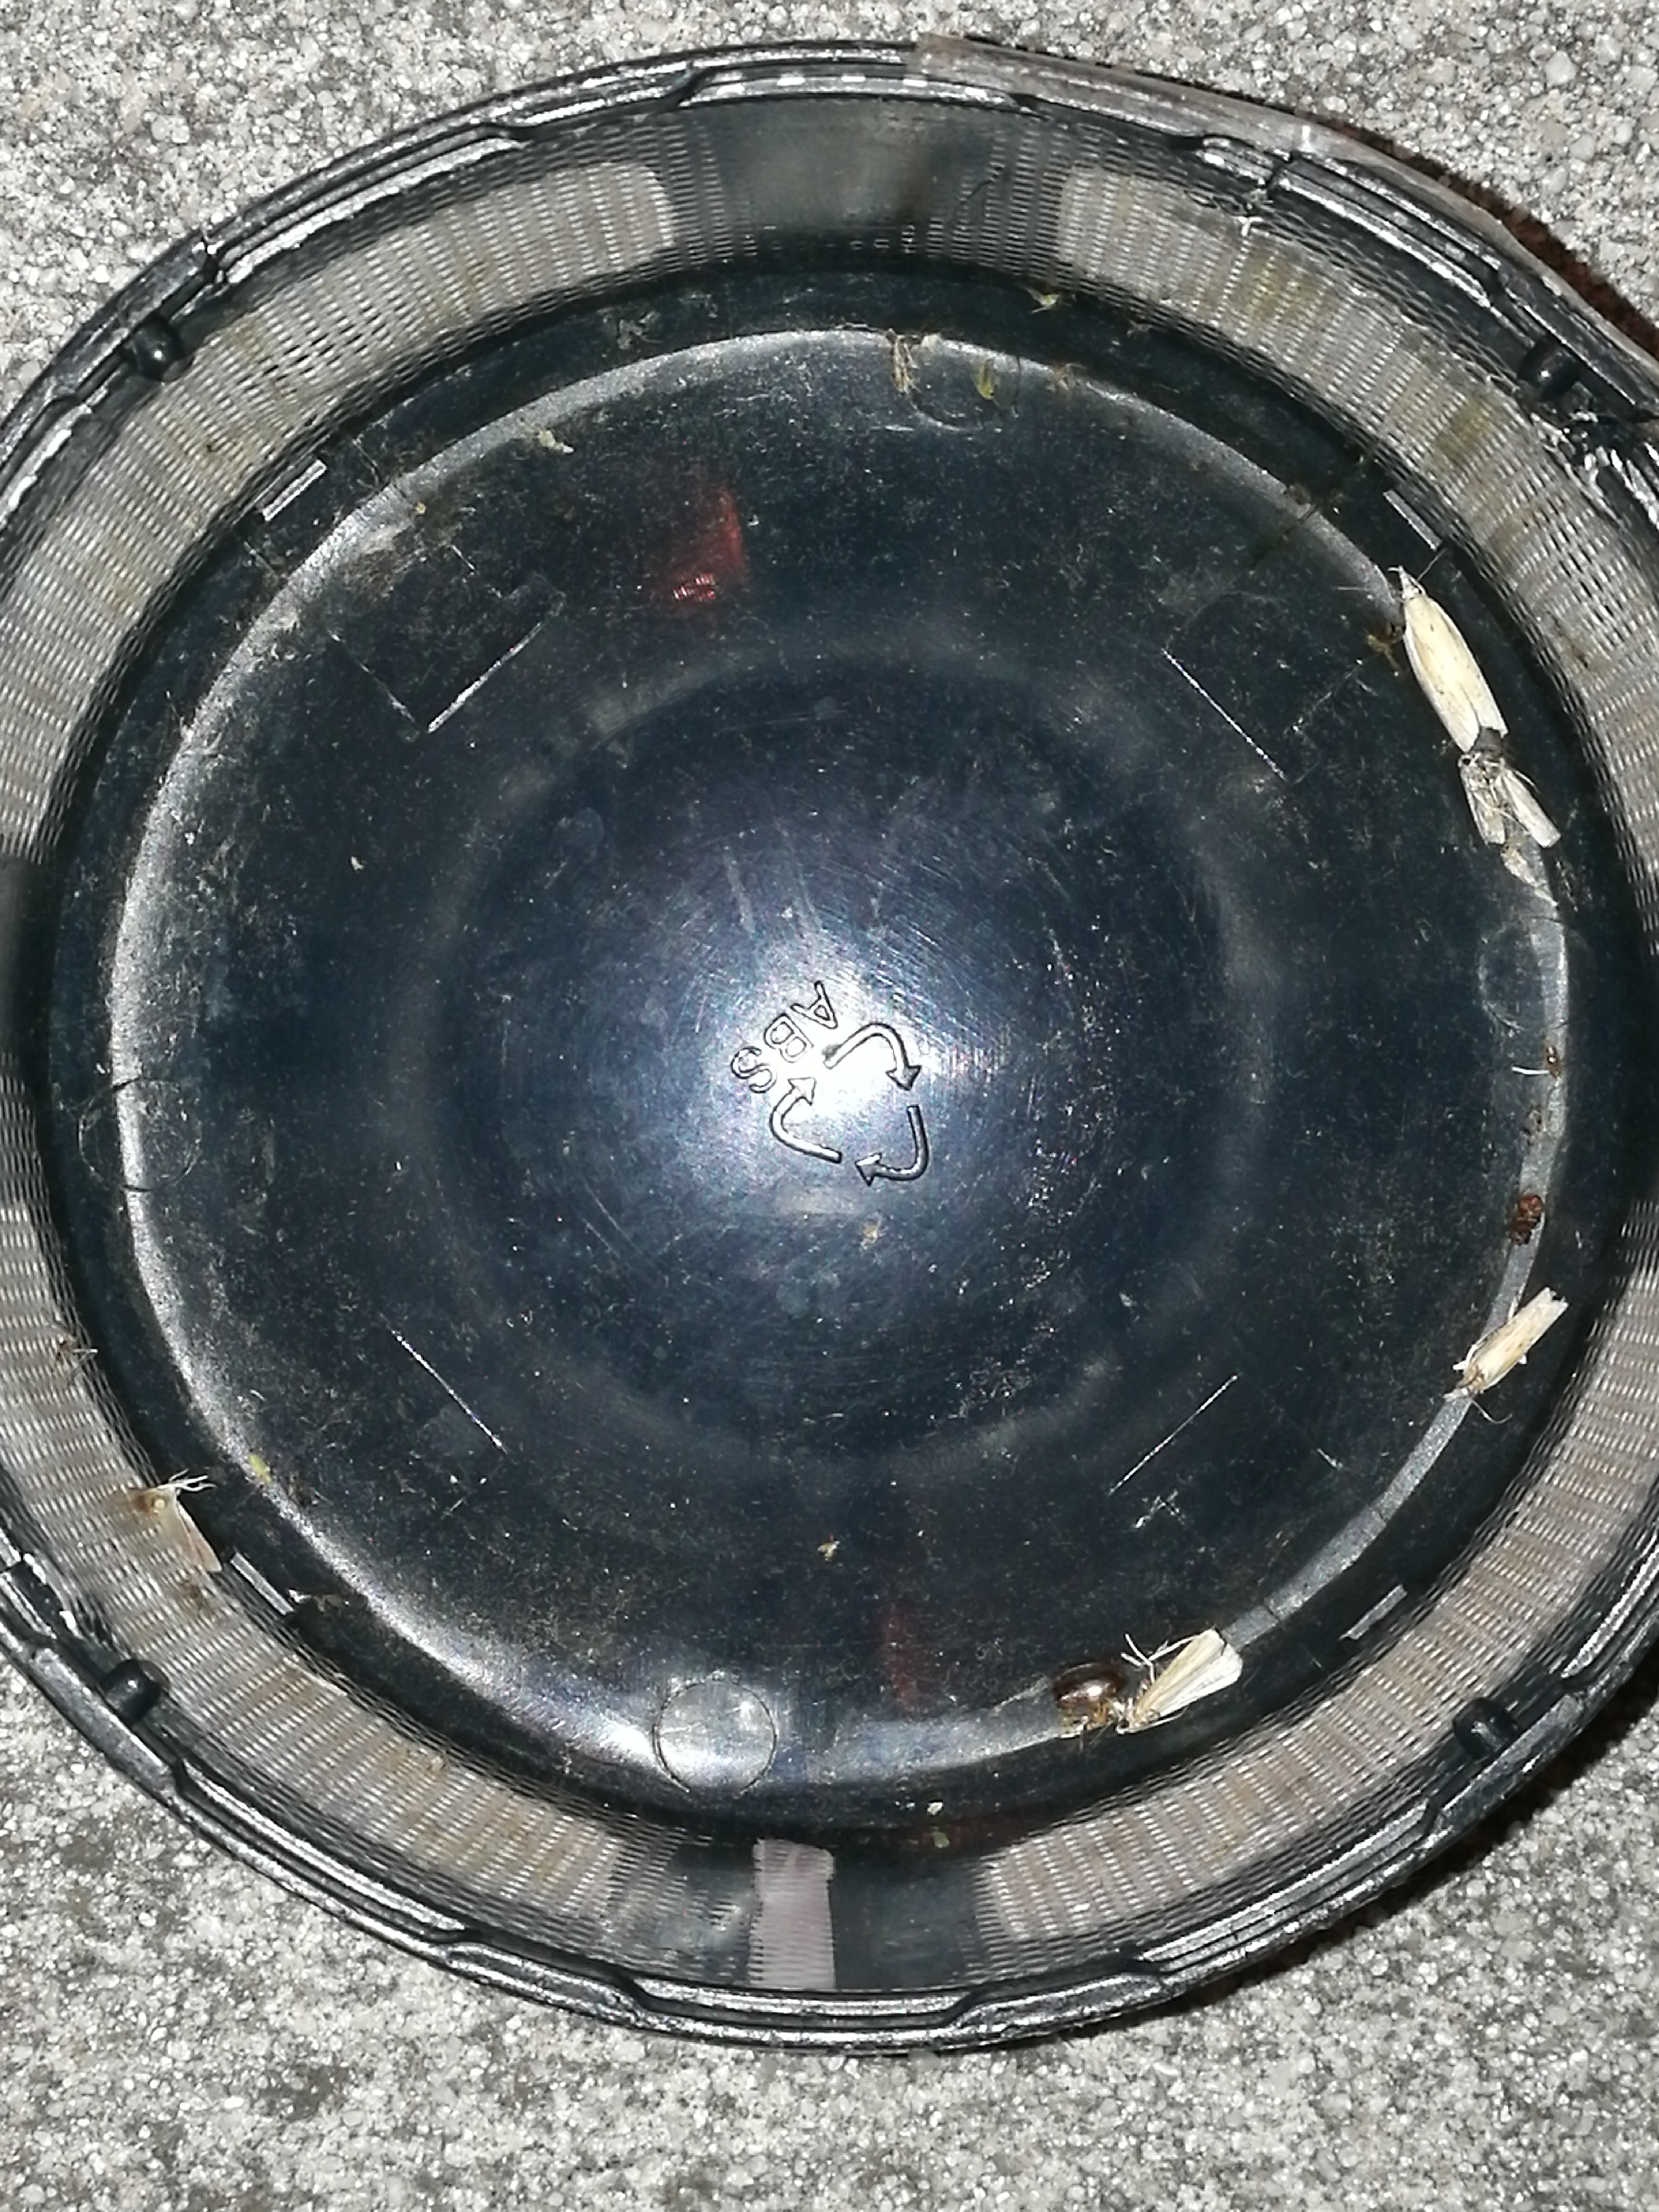beetle: (1053, 1662, 1126, 1709)
mosquito: (1398, 566, 1507, 751), (1445, 1287, 1570, 1402), (1485, 761, 1561, 846), (1459, 751, 1504, 845)
moth: (1115, 1630, 1243, 1733)
